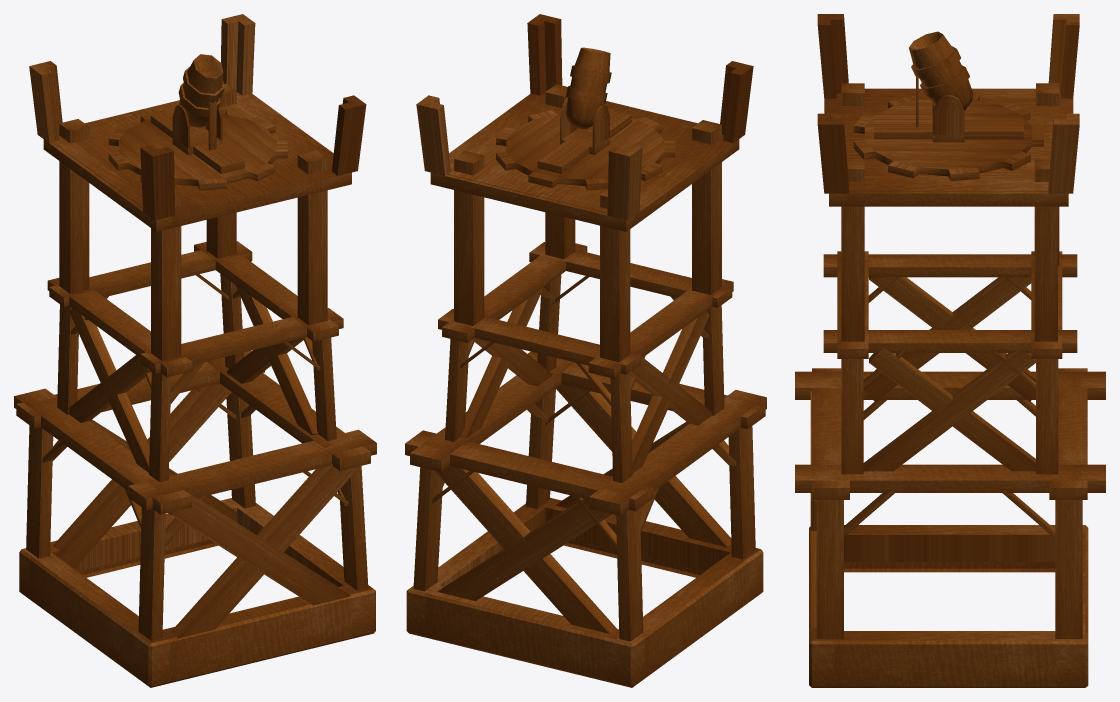
Rendered from mortier.fbx.
3 views of the same model, side by side, from view 1: azimuth 30°, elevation 25°; view 2: azimuth 150°, elevation 25°; view 3: azimuth 270°, elevation 25° (orthographic). The views are drawn at different scales.
Parts seen in each view (by area): view 1: tower_basic, Tandwiel, Houder, Capsule; view 2: tower_basic, Tandwiel, Houder, Capsule; view 3: tower_basic, Tandwiel, Houder, Capsule.
Part boxes in pixels (x1,y1,x2,y2): tower_basic: (14,14,376,687); Tandwiel: (108,109,287,190); Houder: (150,105,244,173); Capsule: (178,54,224,127); tower_basic: (405,14,766,687); Tandwiel: (496,109,675,190); Houder: (537,97,632,173); Capsule: (566,47,611,129); tower_basic: (795,14,1105,687); Tandwiel: (853,94,1043,180); Houder: (874,95,1023,142); Capsule: (909,31,973,110).
Size of the model in its own units: 340 by 791 by 374.
Materials: 1 (1 with a texture image).
